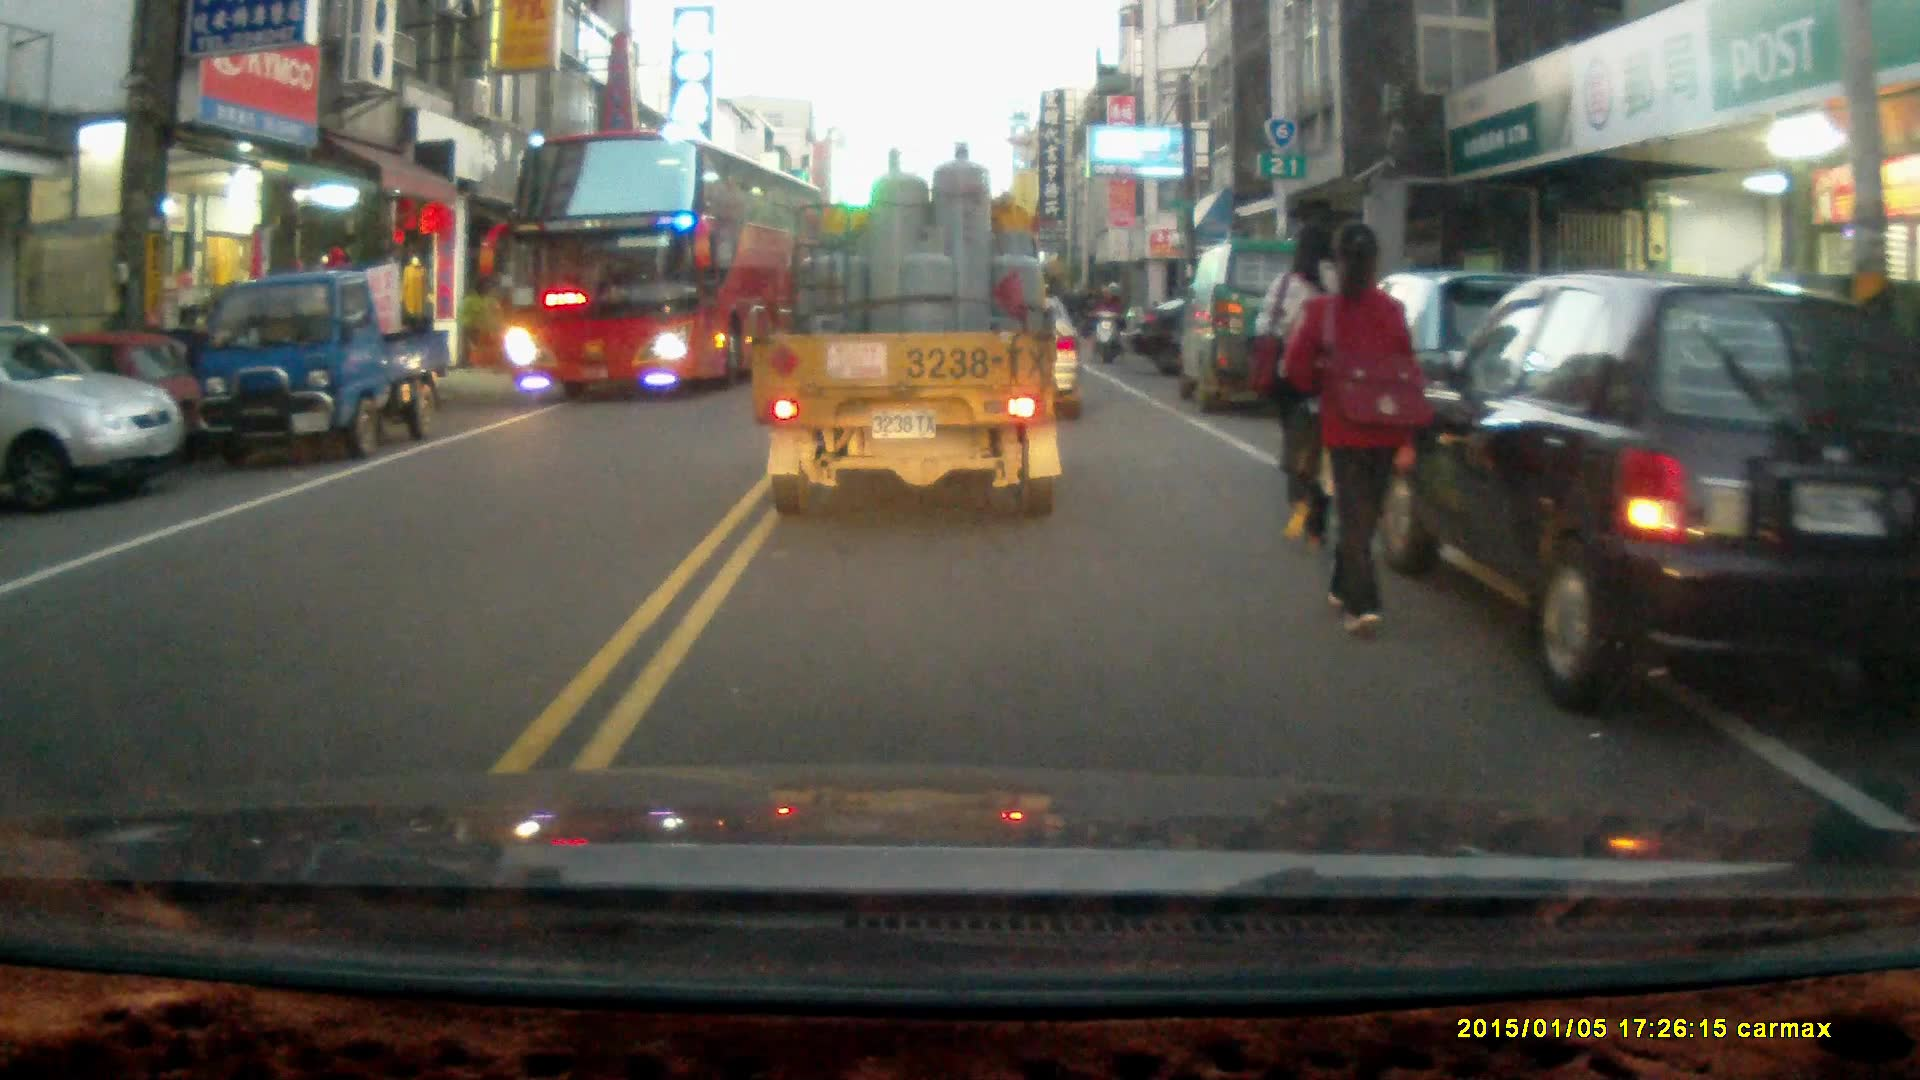pedestrian: (1283, 218, 1424, 634), (1255, 220, 1368, 557)
rider: (1090, 278, 1129, 366)
vehicle: (1391, 270, 1920, 727), (748, 142, 1070, 524), (502, 129, 825, 407), (192, 274, 456, 460), (1, 320, 184, 522), (1181, 238, 1372, 418)
